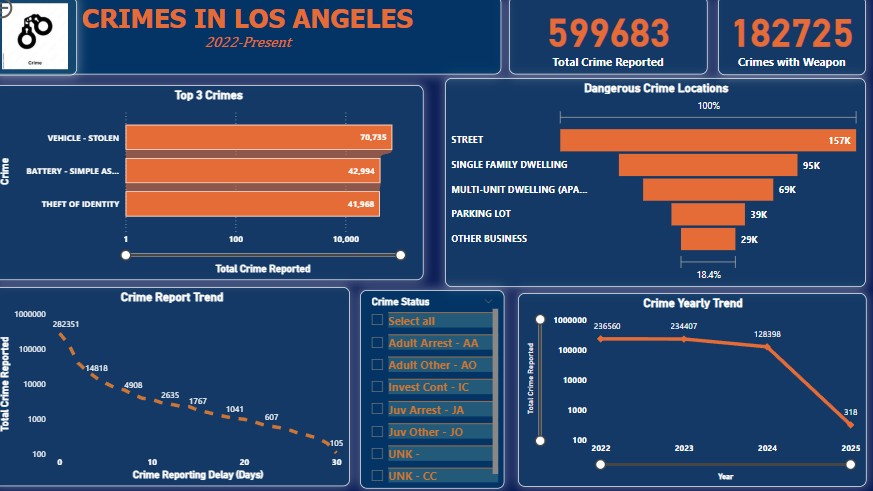

Layout of this report page (visuals, bound fields, positions):
{"tool":"powerbi","page":{"name":"Crime Report","canvas":[1280,720],"ordinal":0},"visuals":[{"type":"funnel","title":"Dangerous Crime Locations","fields":{"Category":["Crime_Data_from_2020_to_Present.Crime Location"],"Y":["Crime_Data_from_2020_to_Present.Total Crime Reported"]},"box":[658.5,120.9,606.4,300.7],"z":0},{"type":"card","fields":{"Values":["Crime_Data_from_2020_to_Present.Total Crime Reported"]},"box":[750.9,3.4,285.6,112.5],"z":1000},{"type":"lineChart","title":"Crime Yearly Trend","fields":{"Category":["Crime_Data_from_2020_to_Present.Crime Occurence Date.Variation.Date Hierarchy.Year"],"Y":["Crime_Data_from_2020_to_Present.Total Crime Reported"]},"box":[762.6,430,502.3,278.8],"z":2000},{"type":"slicer","fields":{"Values":["Crime_Data_from_2020_to_Present.Crime Status"]},"box":[535.9,426.7,208.3,285.6],"z":3000},{"type":"textbox","box":[6.7,3.4,732.4,112.5],"z":4000},{"type":"image","box":[6.7,5,120.9,112.5],"z":5000},{"type":"card","fields":{"Values":["Crime_Data_from_2020_to_Present.Crimes with Weapon"]},"box":[1051.5,3.4,213.3,114.2],"z":6000},{"type":"lineChart","title":"Crime Report Trend","fields":{"Category":["Crime_Data_from_2020_to_Present.Crime Reporting Delay"],"Y":["Crime_Data_from_2020_to_Present.Total Crime Reported"]},"box":[6.7,421.6,514,287.2],"z":7000},{"type":"barChart","title":"Top 3 Crimes","fields":{"Y":["Crime_Data_from_2020_to_Present.Total Crime Reported"],"Category":["Crime_Data_from_2020_to_Present.Crime"]},"box":[6.7,131,619.8,280.5],"z":8000},{"type":"actionButton","box":[0,0,100,40],"z":9000}]}

Visuals, with their boxes in screenshot pixels (x1, y1, x2, y2), scaled from the page's 1280x720 canvas onto the 873x491 screenshot:
"Dangerous Crime Locations" funnel: [449,82,863,288]
card - Crime_Data_from_2020_to_Present.Total Crime Reported: [512,2,707,79]
"Crime Yearly Trend" lineChart: [520,293,863,483]
slicer - Crime_Data_from_2020_to_Present.Crime Status: [366,291,508,486]
textbox: [5,2,504,79]
image: [5,3,87,80]
card - Crime_Data_from_2020_to_Present.Crimes with Weapon: [717,2,863,80]
"Crime Report Trend" lineChart: [5,288,355,483]
"Top 3 Crimes" barChart: [5,89,427,281]
actionButton: [0,0,68,27]
